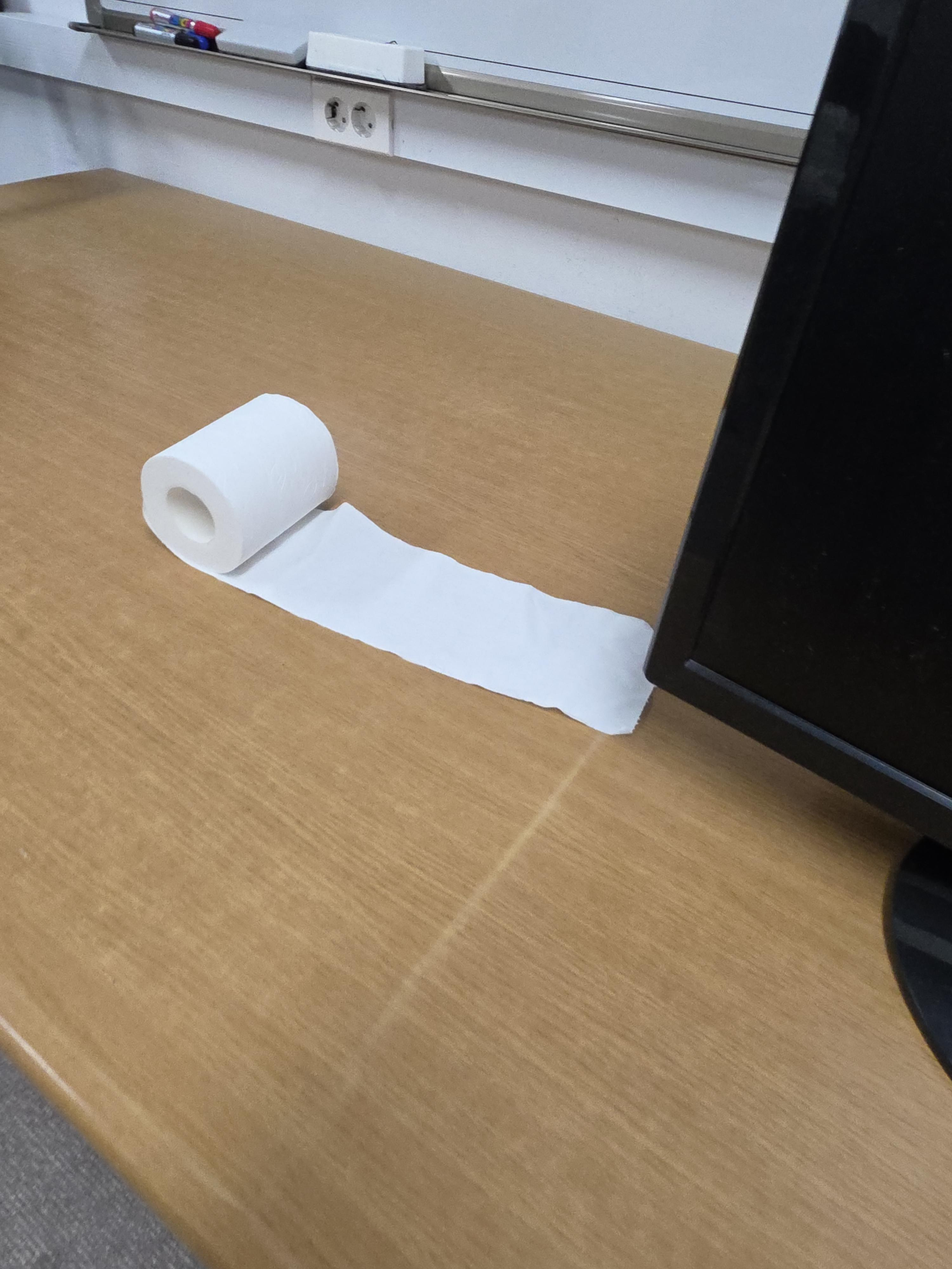tissue: (139, 392, 657, 736)
